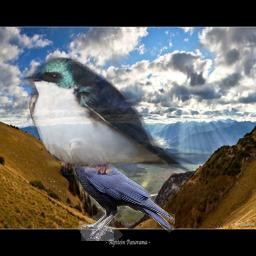Crow: (66, 137, 175, 241)
Swallow: (22, 55, 198, 175)
